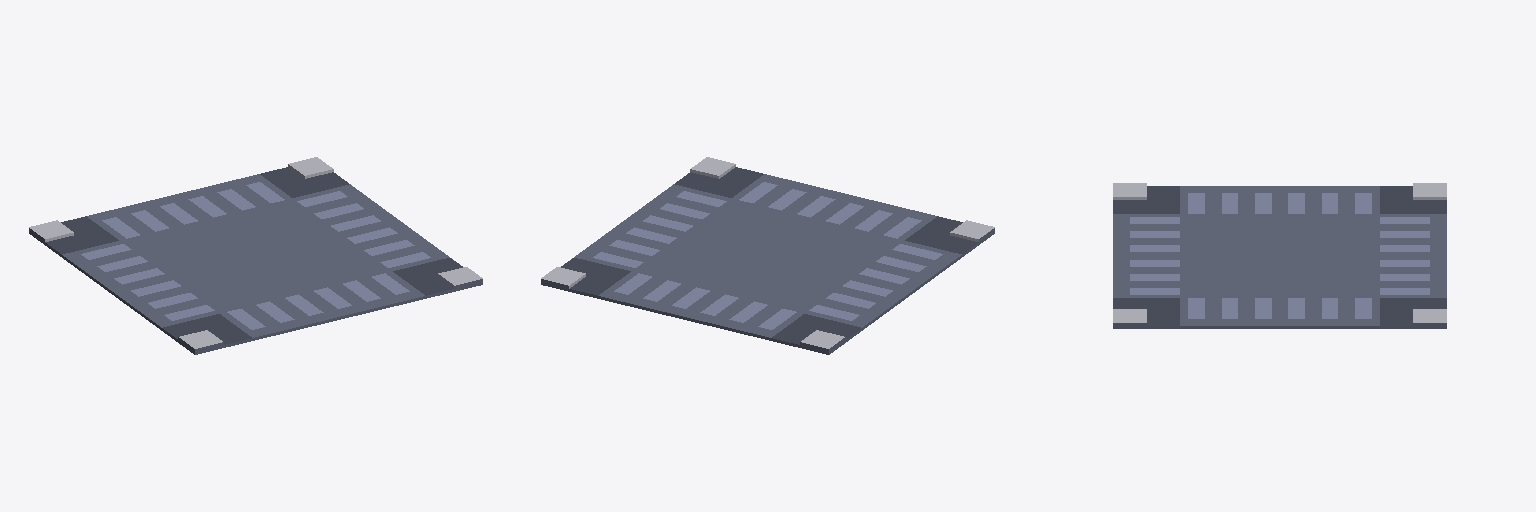
File: city_road_crossing_lit.obj
3 views of the same model, side by side, from view 1: azimuth 30°, elevation 25°; view 2: azimuth 150°, elevation 25°; view 3: azimuth 270°, elevation 25° (orthographic).
Parts seen in each view (by area): view 1: mergedBlocks; view 2: mergedBlocks; view 3: mergedBlocks.
Part boxes in pixels (x1,y1,x2,y2): mergedBlocks: (29, 157, 482, 354); mergedBlocks: (541, 157, 994, 354); mergedBlocks: (1113, 183, 1446, 328).
Size of the model in its own units: 1 by 0.02 by 1.